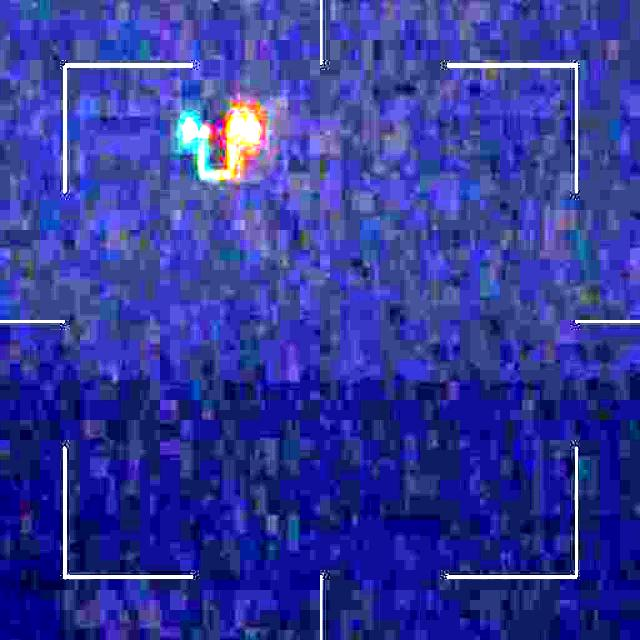bird: (172, 111, 261, 178)
